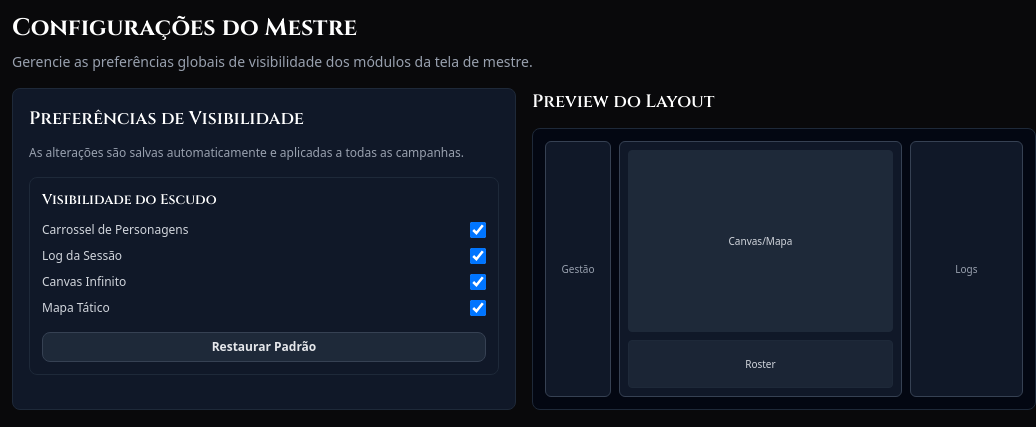
Test: MasterSettingsPage (/master/settings) › updates preview immediately when toggles are clicked without reload
Check: the text "Logs" is shown, box [910, 141, 1023, 397]
Check: the text "Roster" is shown, box [628, 340, 893, 388]
# Toggle logs off
Click the checkbox labelled "Log da Sessão" at (478, 256), box [470, 248, 486, 264]
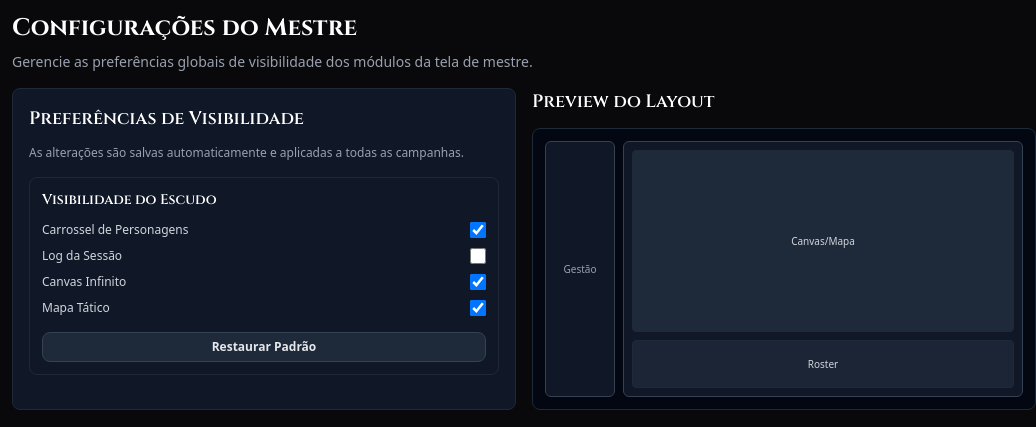
Check: the text "Logs" is gone
# Toggle roster off
Click the checkbox labelled "Carrossel de Personagens" at (478, 230), box [470, 222, 486, 238]
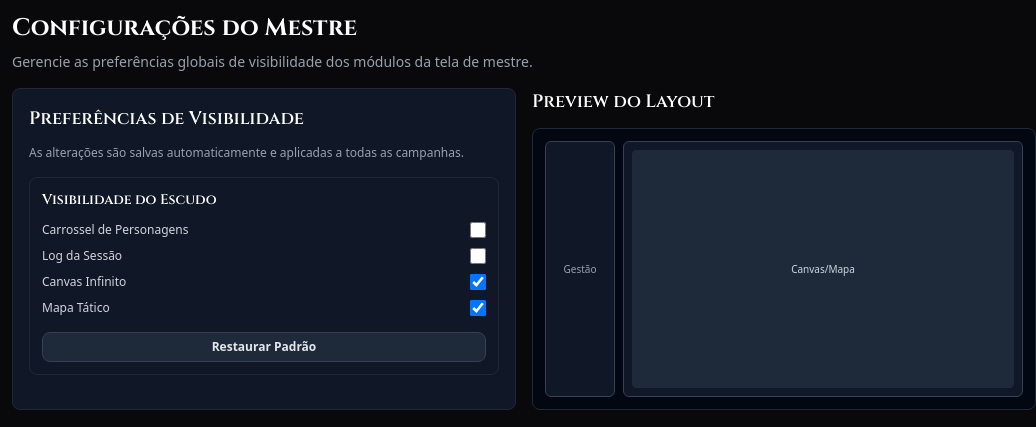
Check: the text "Roster" is gone
# Toggle canvas and map off
Click the checkbox labelled "Canvas Infinito" at (478, 282), box [470, 274, 486, 290]
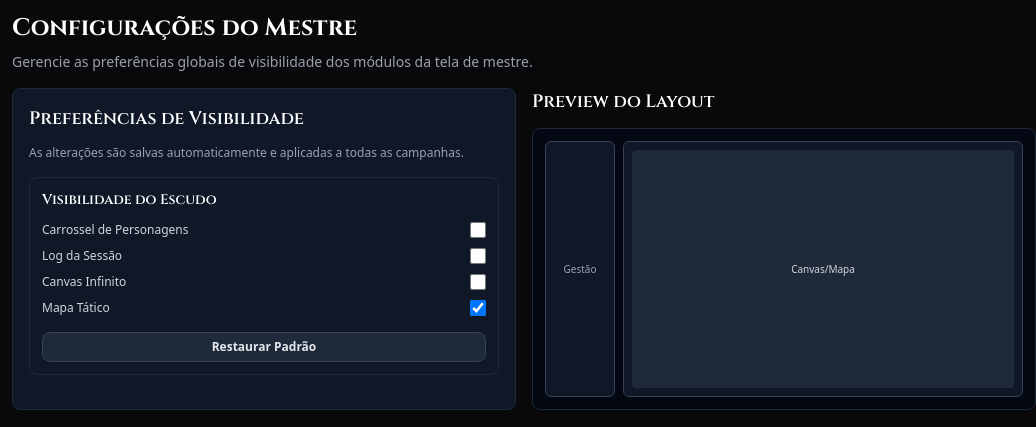
Click the checkbox labelled "Mapa Tático" at (478, 308), box [470, 300, 486, 316]
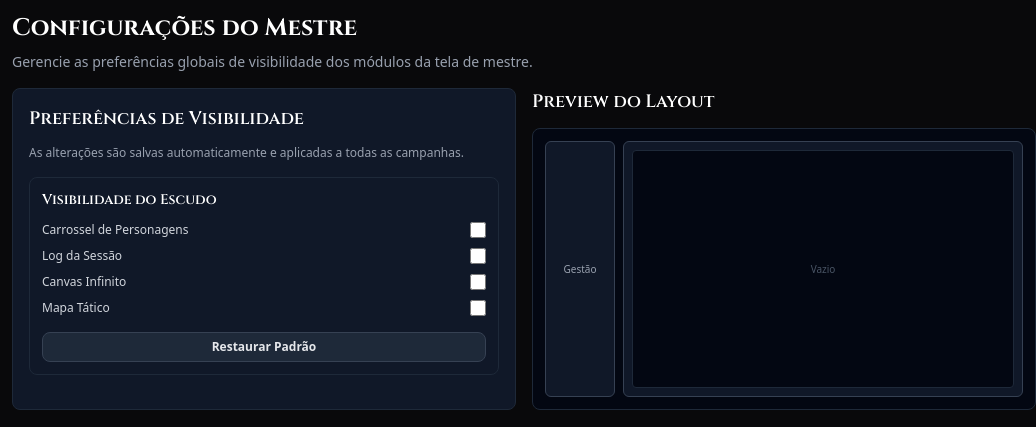
Check: the text "Canvas/Mapa" is gone
Check: the text "Vazio" is shown, box [632, 150, 1014, 388]
